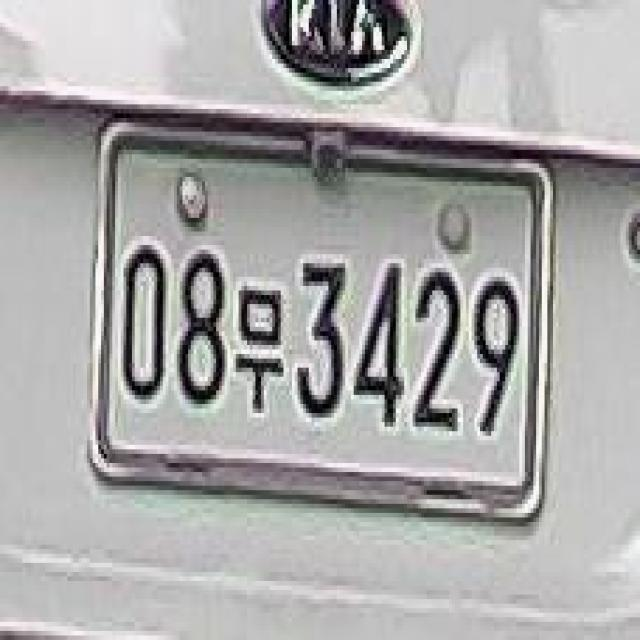illegal_plate: (87, 122, 548, 541)
